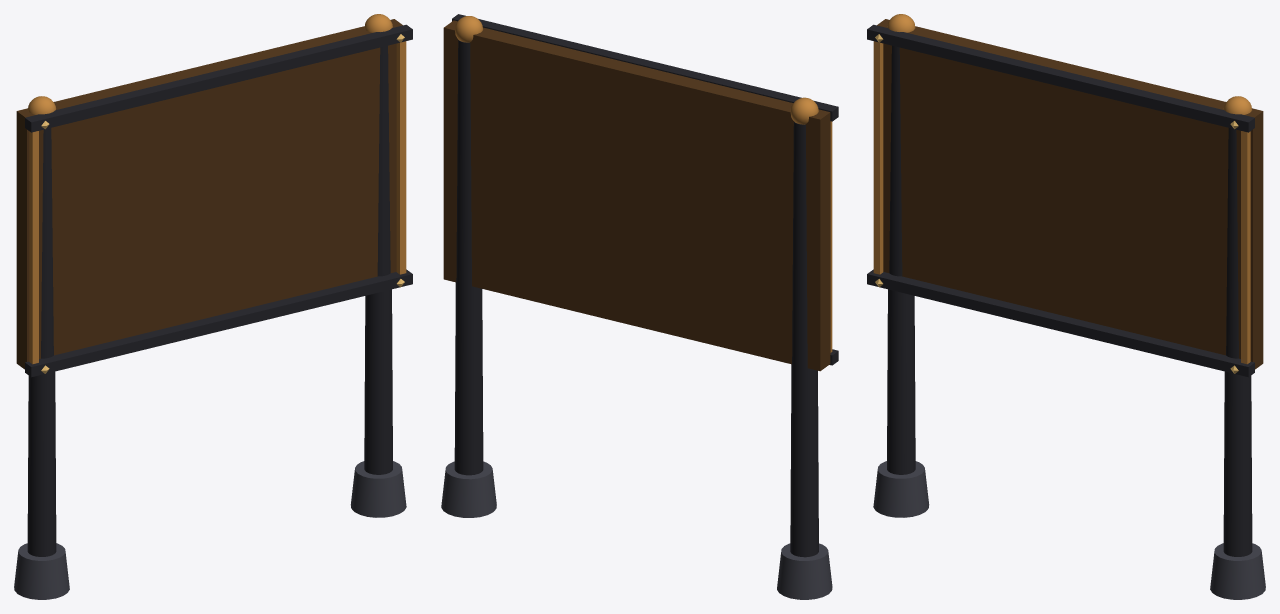
Rendered from mia-park_map.glb.
3 renders of one model, left to right at view 1: azimuth 30°, elevation 25°; view 2: azimuth 150°, elevation 25°; view 3: azimuth 330°, elevation 25°, orthographic.
Visible parts, largest first — view 1: Body_wood, Body_iron, Body_brass, Body_stone; view 2: Body_wood, Body_iron, Body_stone, Body_brass; view 3: Body_wood, Body_iron, Body_brass, Body_stone.
Part boxes in pixels (x1,y1,x2,y2): Body_wood: (16,19,402,369); Body_iron: (25,24,412,556); Body_brass: (28,14,406,364); Body_stone: (14,461,406,599); Body_wood: (443,20,830,371); Body_iron: (452,14,838,557); Body_stone: (441,461,832,599); Body_brass: (455,16,832,352); Body_wood: (877,19,1263,369); Body_iron: (867,24,1254,556); Body_brass: (873,14,1251,364); Body_stone: (873,461,1265,599).
Bounding box in the file's own units: 2.06 × 2.51 × 0.26.
